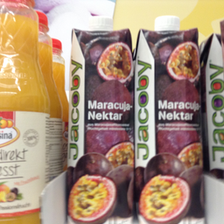juice: (66, 16, 137, 224), (134, 16, 204, 224)
